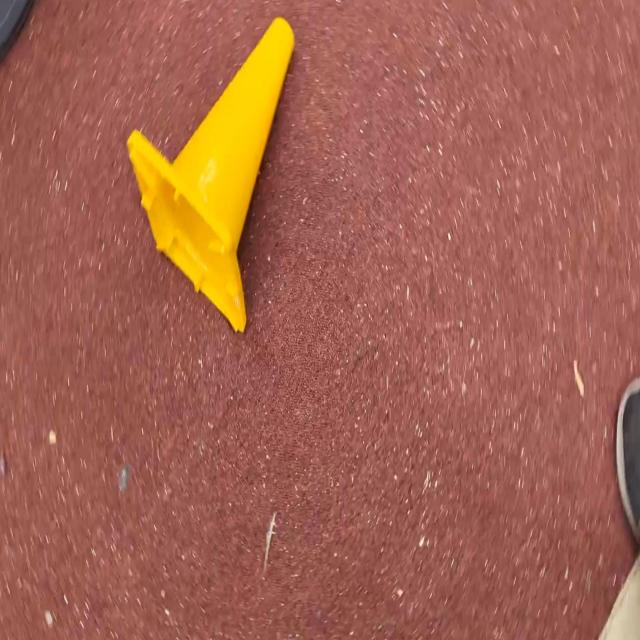frc_cone: (126, 18, 294, 330)
